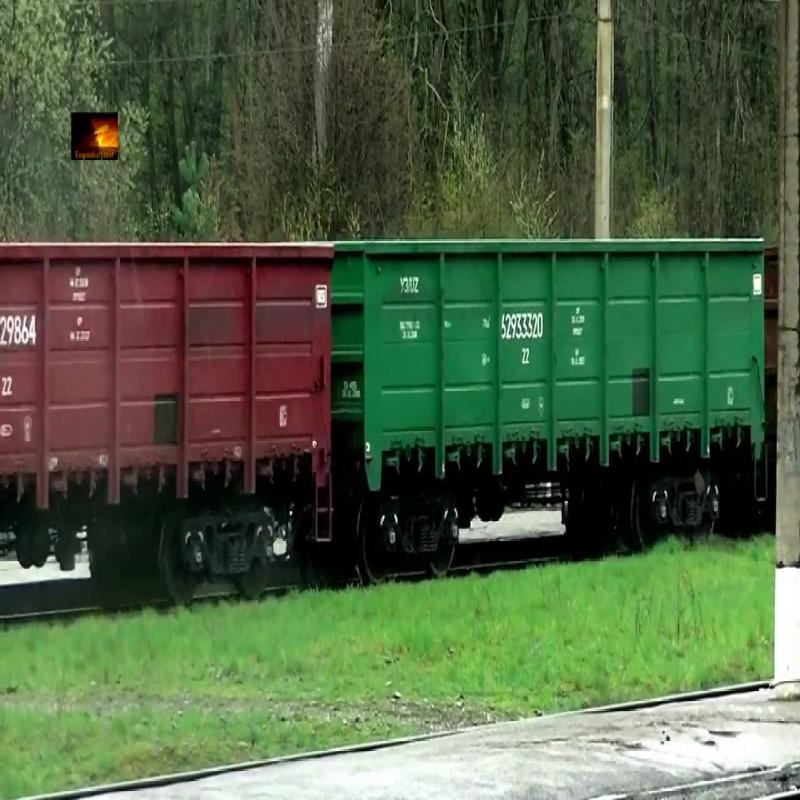train: (337, 238, 767, 494), (1, 239, 337, 514)
